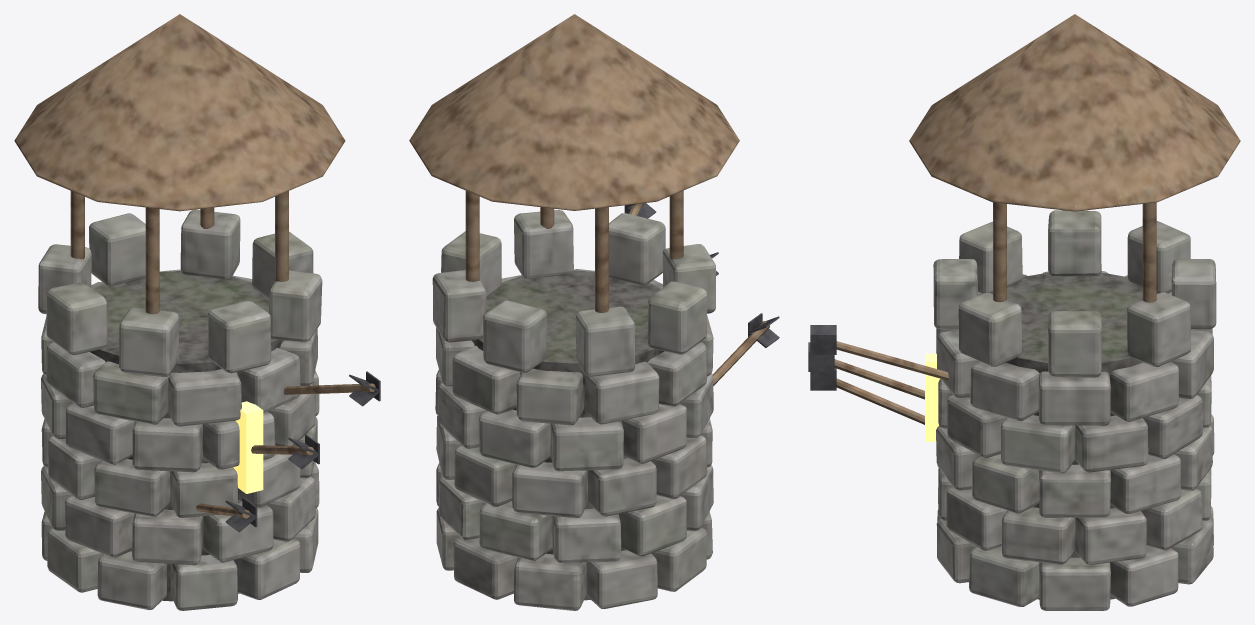
The model's file is tower.glb.
The picture shows the model from 3 angles, left to right: view 1: azimuth 30°, elevation 25°; view 2: azimuth 150°, elevation 25°; view 3: azimuth 270°, elevation 25°; orthographic projection.
Parts seen in each view (by area): view 1: stone_grey, wood_old, stone_dark, glow_fire, cloth_black; view 2: stone_grey, wood_old, stone_dark, cloth_black; view 3: stone_grey, wood_old, stone_dark, cloth_black, glow_fire.
Part boxes in pixels (bbox=[...]): stone_grey: bbox=[38, 209, 322, 610]; wood_old: bbox=[14, 14, 375, 518]; stone_dark: bbox=[90, 271, 283, 601]; glow_fire: bbox=[233, 401, 263, 493]; cloth_black: bbox=[225, 371, 380, 532]; stone_grey: bbox=[432, 210, 715, 610]; wood_old: bbox=[409, 14, 769, 385]; stone_dark: bbox=[471, 270, 664, 600]; cloth_black: bbox=[624, 203, 779, 347]; stone_grey: bbox=[933, 210, 1216, 610]; wood_old: bbox=[834, 14, 1240, 424]; stone_dark: bbox=[979, 272, 1170, 599]; cloth_black: bbox=[808, 325, 836, 390]; glow_fire: bbox=[925, 353, 940, 441].
Size of the model in its own units: 0.3758 by 0.68 by 0.49.
Materials: 5 (4 with a texture image).
